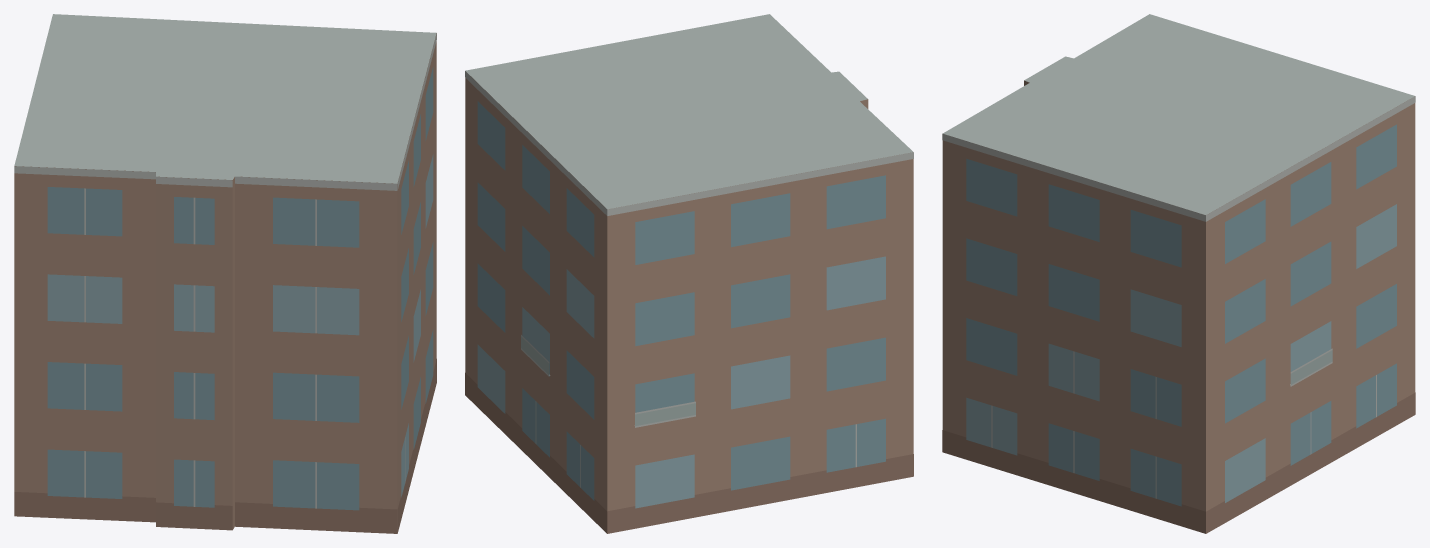
File: survey-upis-32545490.glb
3 renders of one model, left to right at view 1: azimuth 30°, elevation 25°; view 2: azimuth 150°, elevation 25°; view 3: azimuth 270°, elevation 25°, orthographic. The views are drawn at different scales.
Visible parts, largest first — view 1: survey-upis-32545490.tmp; view 2: survey-upis-32545490.tmp; view 3: survey-upis-32545490.tmp.
Part boxes in pixels (<box>): survey-upis-32545490.tmp: <box>14,14,436,533</box>; survey-upis-32545490.tmp: <box>465,14,913,533</box>; survey-upis-32545490.tmp: <box>942,14,1415,533</box>.
Size of the model in its own units: 15.86 by 11.7 by 15.75.
